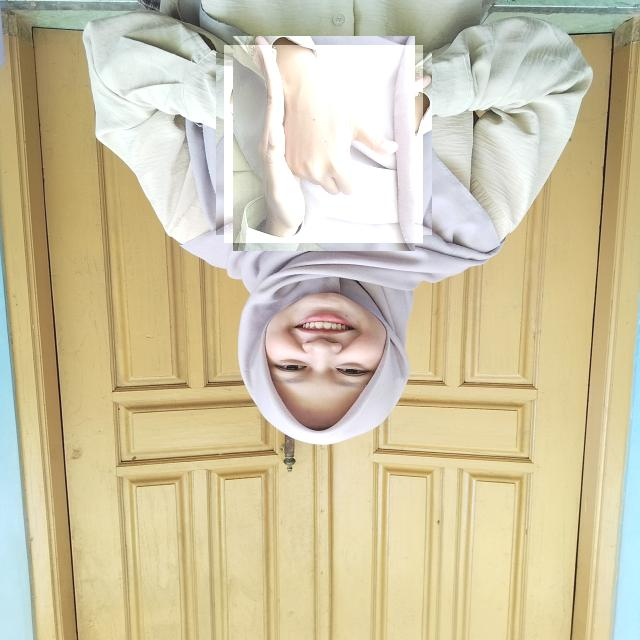cantik: (224, 45, 423, 243)
